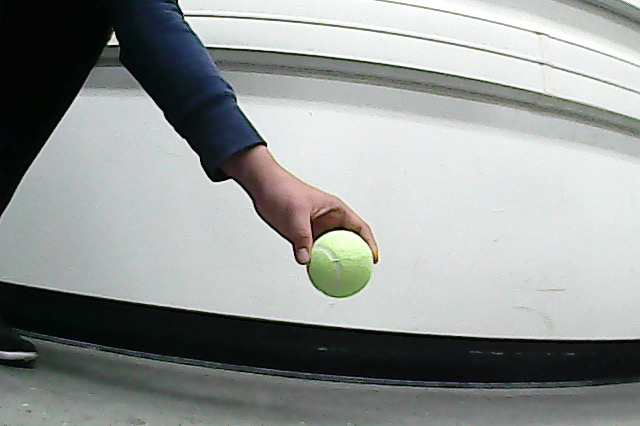ball: (307, 230, 373, 299)
